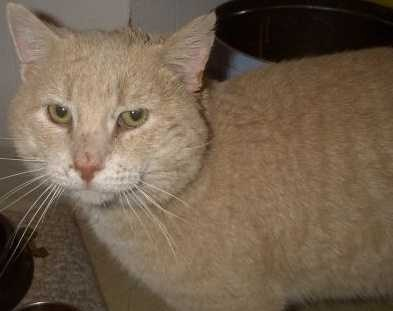Cat: (7, 3, 392, 310)
